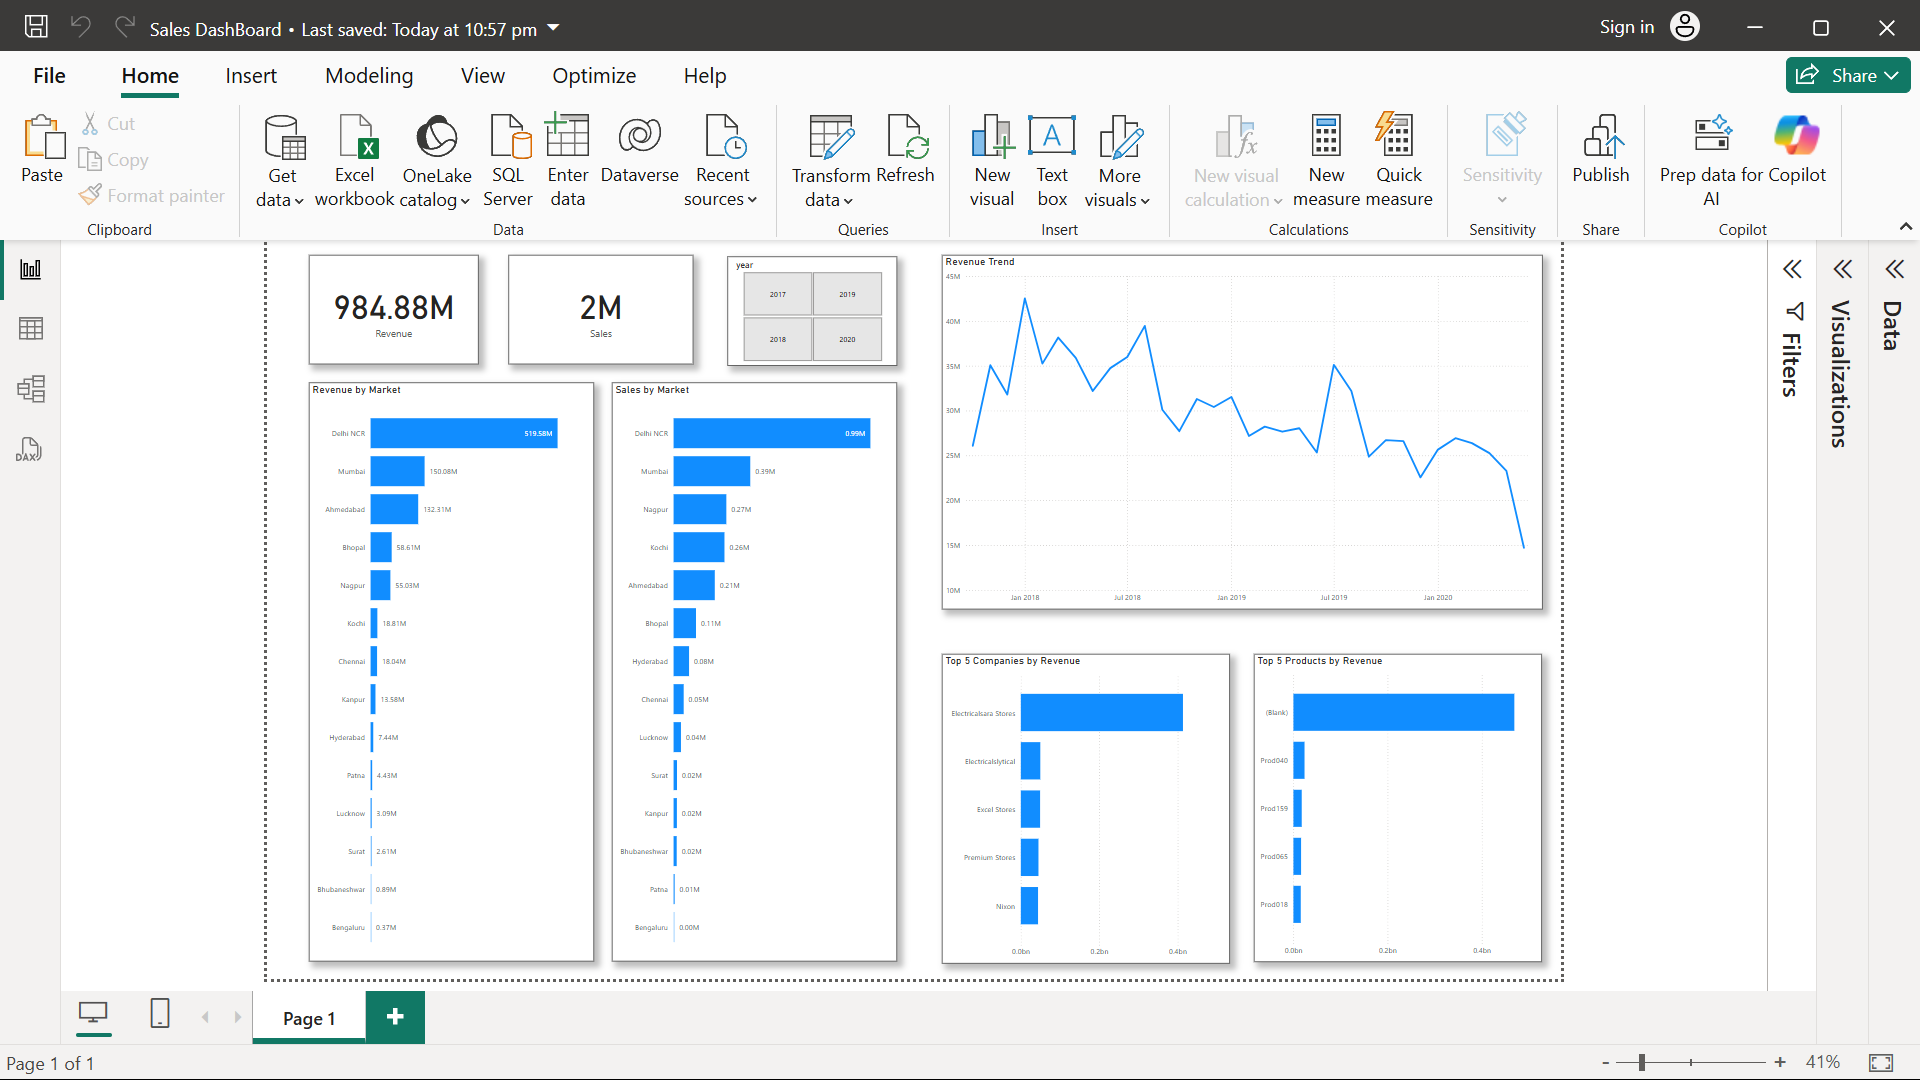

This screenshot's page, from the dashboard's own definition file:
{"tool":"powerbi","page":{"name":"Page 1","canvas":[2100,1200],"ordinal":0},"visuals":[{"type":"card","fields":{"Values":["BaseModule.Revunue"]},"box":[67.5,25,275,177.5],"z":0},{"type":"card","fields":{"Values":["BaseModule.Sales"]},"box":[392.5,25,300,177.5],"z":1000},{"type":"barChart","title":"Revenue by Market","fields":{"Y":["BaseModule.Revenue"],"Category":["sales markets.markets_name"]},"box":[67.5,232.5,462.5,940],"z":2000},{"type":"barChart","title":"Sales by Market","fields":{"Y":["BaseModule.Sales"],"Category":["sales markets.markets_name"]},"box":[560,232.5,462.5,940],"z":2001},{"type":"slicer","fields":{"Values":["sales date.year"]},"box":[747.5,27.5,275,177.5],"z":2002},{"type":"barChart","title":"Top 5 Companies by Revenue","fields":{"Category":["sales customers.custmer_name"],"Y":["BaseModule.Revenue"]},"box":[1095,672.5,467.5,502.5],"z":2004},{"type":"barChart","title":"Top 5 Products by Revenue","fields":{"Category":["sales products.product_code"],"Y":["BaseModule.Revenue"]},"box":[1602.5,672.5,467.5,500],"z":2005},{"type":"lineChart","title":"Revenue Trend","fields":{"Y":["BaseModule.Revenue"],"Category":["sales date.cy_date.Variation.Date Hierarchy.Year","sales date.cy_date.Variation.Date Hierarchy.Quarter","sales date.cy_date.Variation.Date Hierarchy.Month","sales date.cy_date.Variation.Date Hierarchy.Day"]},"box":[1095,25,975,575],"z":2006}]}

Visuals, with their boxes on the page's 2100x1200 design canvas (x1, y1, x2, y2). These are canvas units, not pixel positions in the 1920x1080 screenshot, which may show the page scaled, cropped or inside an application window:
card - BaseModule.Revunue: <bbox>68, 25, 342, 202</bbox>
card - BaseModule.Sales: <bbox>392, 25, 692, 202</bbox>
"Revenue by Market" barChart: <bbox>68, 232, 530, 1172</bbox>
"Sales by Market" barChart: <bbox>560, 232, 1022, 1172</bbox>
slicer - sales date.year: <bbox>748, 28, 1022, 205</bbox>
"Top 5 Companies by Revenue" barChart: <bbox>1095, 672, 1562, 1175</bbox>
"Top 5 Products by Revenue" barChart: <bbox>1602, 672, 2070, 1172</bbox>
"Revenue Trend" lineChart: <bbox>1095, 25, 2070, 600</bbox>
